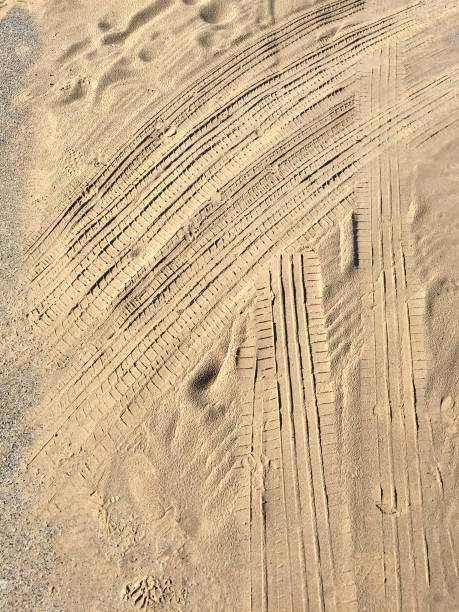vehicle_track: (27, 0, 457, 609), (29, 0, 363, 258), (237, 251, 355, 609), (356, 145, 445, 609), (239, 181, 304, 253)
